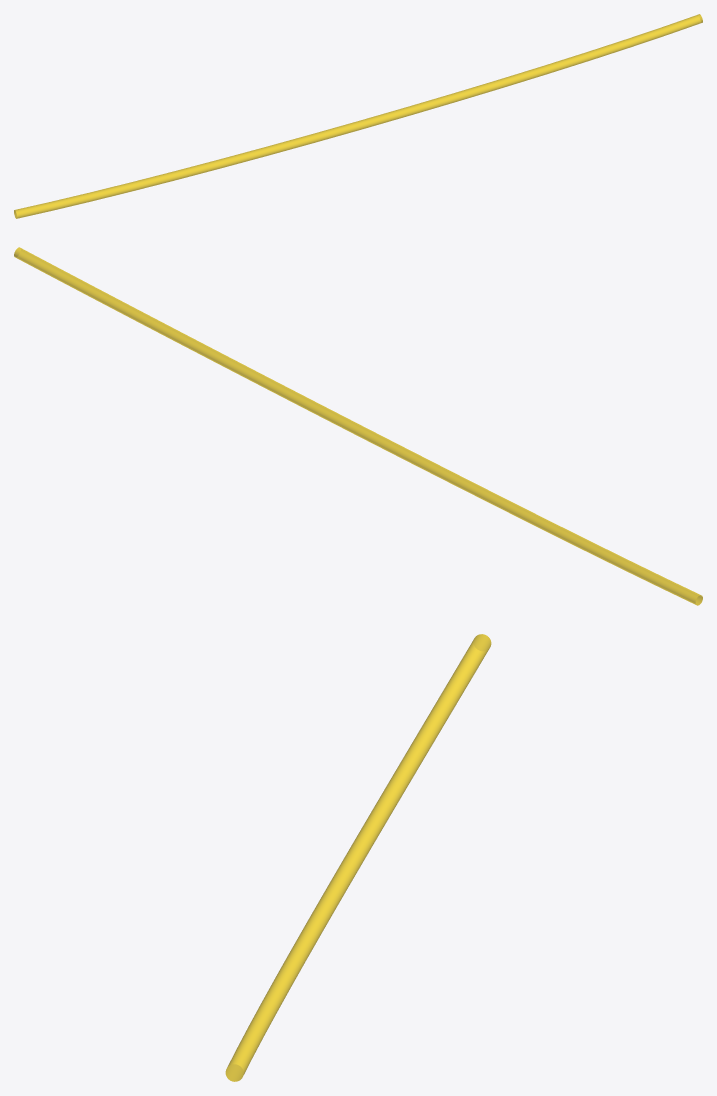
File: Event_402970704_track_21.fbx
3 views of the same model, one above another, from view 1: azimuth 30°, elevation 25°; view 2: azimuth 150°, elevation 25°; view 3: azimuth 270°, elevation 25° (orthographic). The views are drawn at different scales.
Visible parts, largest first — view 1: Model; view 2: Model; view 3: Model.
Boxes of the visible parts, bbox=[...] form: Model: bbox=[14, 14, 702, 218]; Model: bbox=[14, 247, 702, 605]; Model: bbox=[225, 634, 491, 1081].
Size of the model in its own units: 3.15 by 0.4691 by 0.5799.
